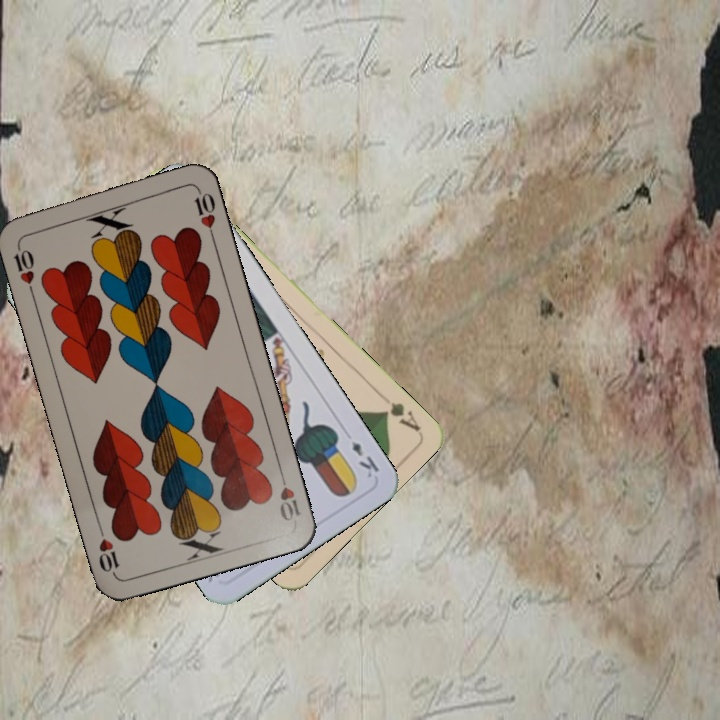EK: (347, 437, 382, 481)
GA: (377, 398, 422, 434)
H10: (275, 466, 304, 524), (9, 240, 37, 298)
